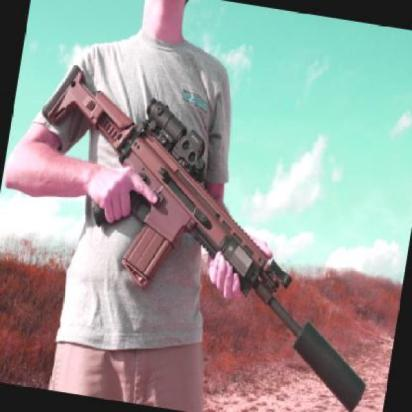Gun: (46, 83, 373, 375)
